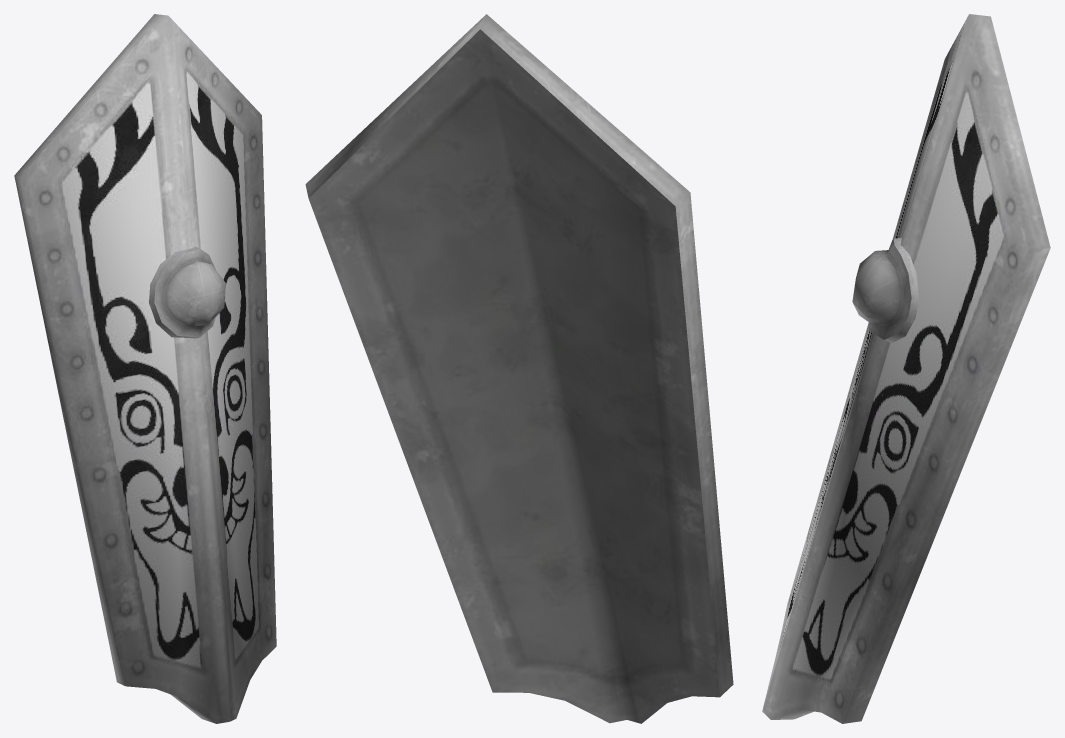
File: shield-bronzeshields.glb
The picture shows the model from 3 angles, left to right: view 1: azimuth 30°, elevation 25°; view 2: azimuth 150°, elevation 25°; view 3: azimuth 270°, elevation 25°; orthographic projection. The views are drawn at different scales.
Size of the model in its own units: 0.6875 by 1.5 by 0.5449.
1 material, 1 textured.
